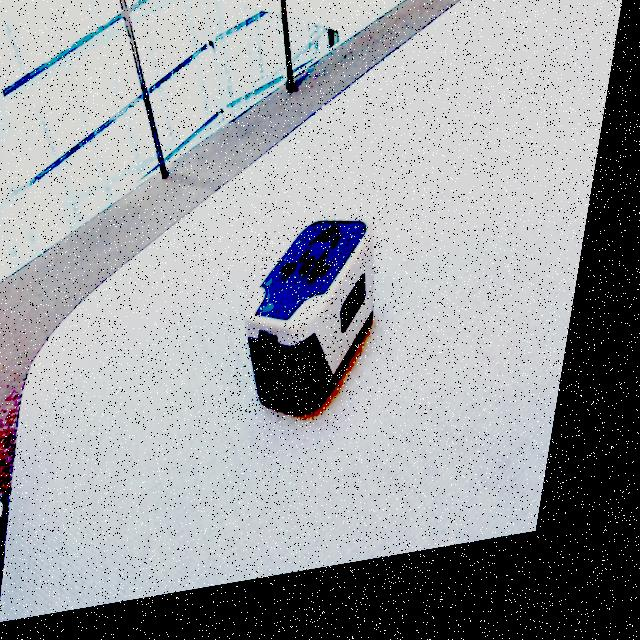adapter: (242, 220, 400, 436)
